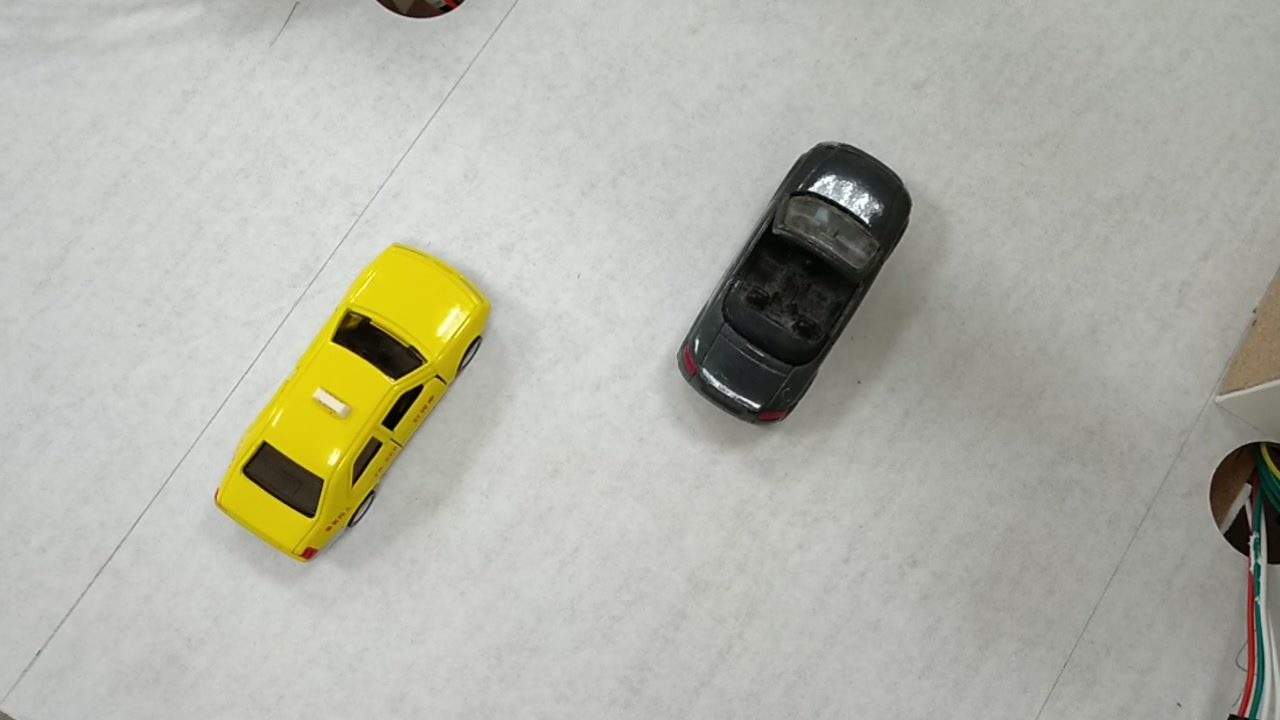car: (214, 253, 487, 564), (678, 148, 912, 422)
